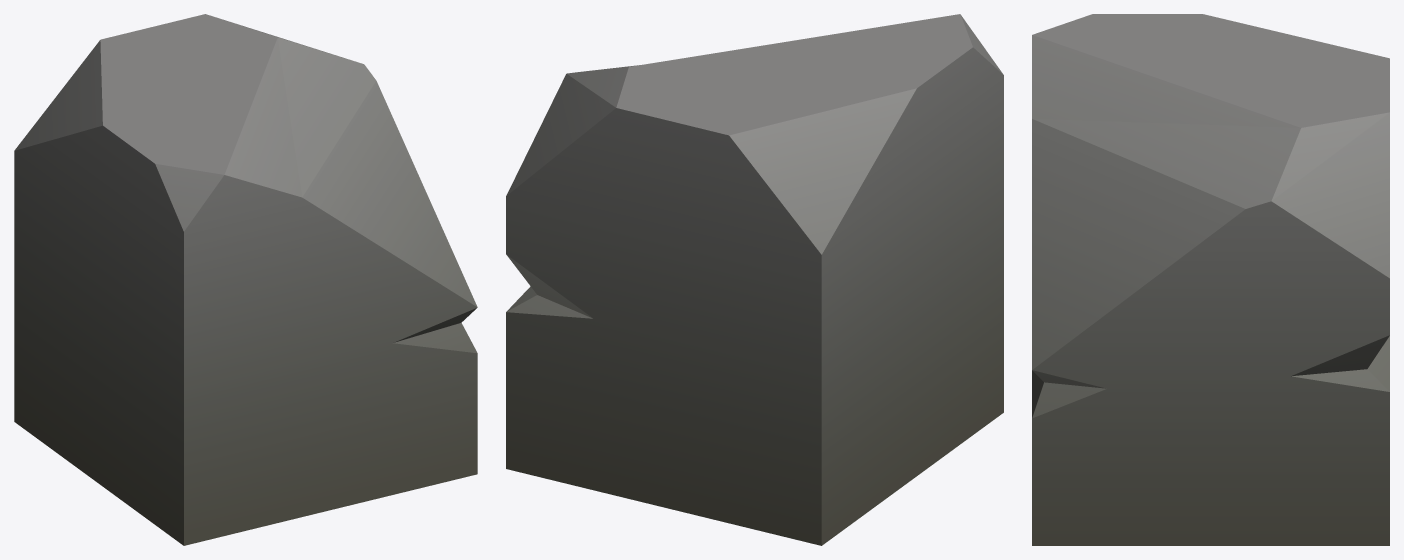
File: Mountain_02.fbx
3 renders of one model, left to right at view 1: azimuth 30°, elevation 25°; view 2: azimuth 150°, elevation 25°; view 3: azimuth 270°, elevation 25°, orthographic. The views are drawn at different scales.
Parts seen in each view (by area): view 1: Mountain_02; view 2: Mountain_02; view 3: Mountain_02.
Part boxes in pixels (bbox=[...]): Mountain_02: bbox=[14, 14, 477, 545]; Mountain_02: bbox=[506, 14, 1003, 545]; Mountain_02: bbox=[1032, 14, 1389, 545].
Bounding box in the file's own units: 5.6 × 6.58 × 5.6.
